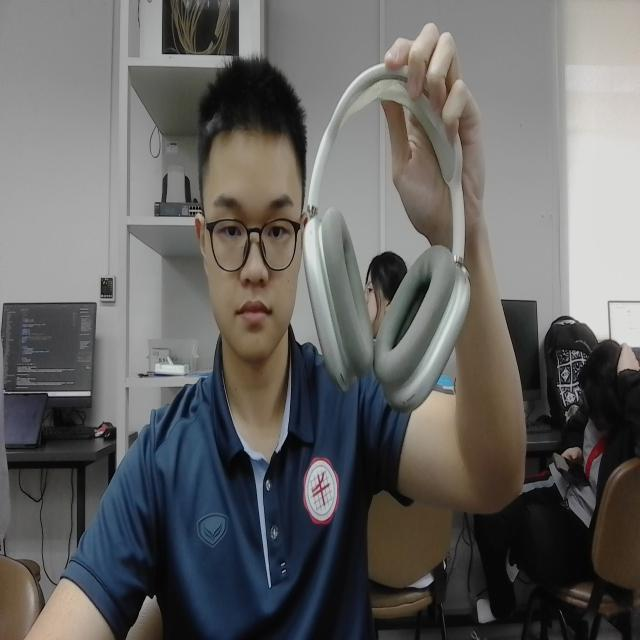airpods max: (293, 48, 478, 421)
